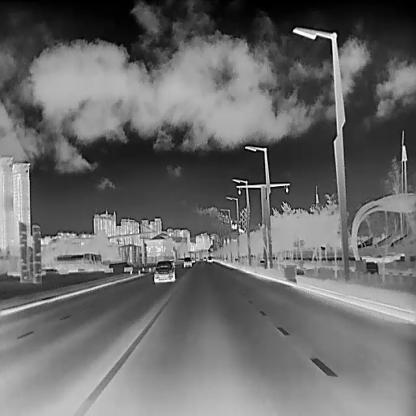car: (153, 259, 175, 281), (182, 256, 192, 266), (206, 254, 213, 262), (202, 255, 206, 261), (191, 256, 194, 262)
truck: (53, 252, 94, 271)
